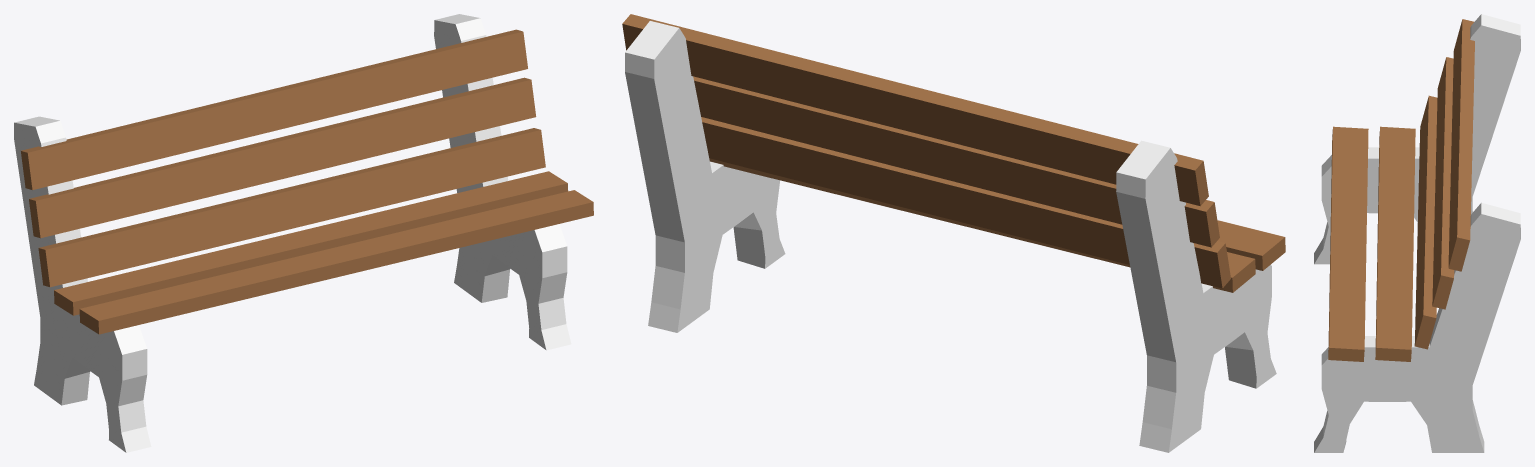
Rendered from banc.fbx.
The picture shows the model from 3 angles, left to right: view 1: azimuth 30°, elevation 25°; view 2: azimuth 150°, elevation 25°; view 3: azimuth 270°, elevation 25°; orthographic projection. The views are drawn at different scales.
Visible parts, largest first — view 1: Circle; view 2: Circle; view 3: Circle.
Part boxes in pixels (x1=…): Circle: x1=14, y1=14, x2=593, y2=452; Circle: x1=622, y1=14, x2=1285, y2=452; Circle: x1=1314, y1=14, x2=1520, y2=452.
Bounding box in the file's own units: 515 × 258 × 202.
